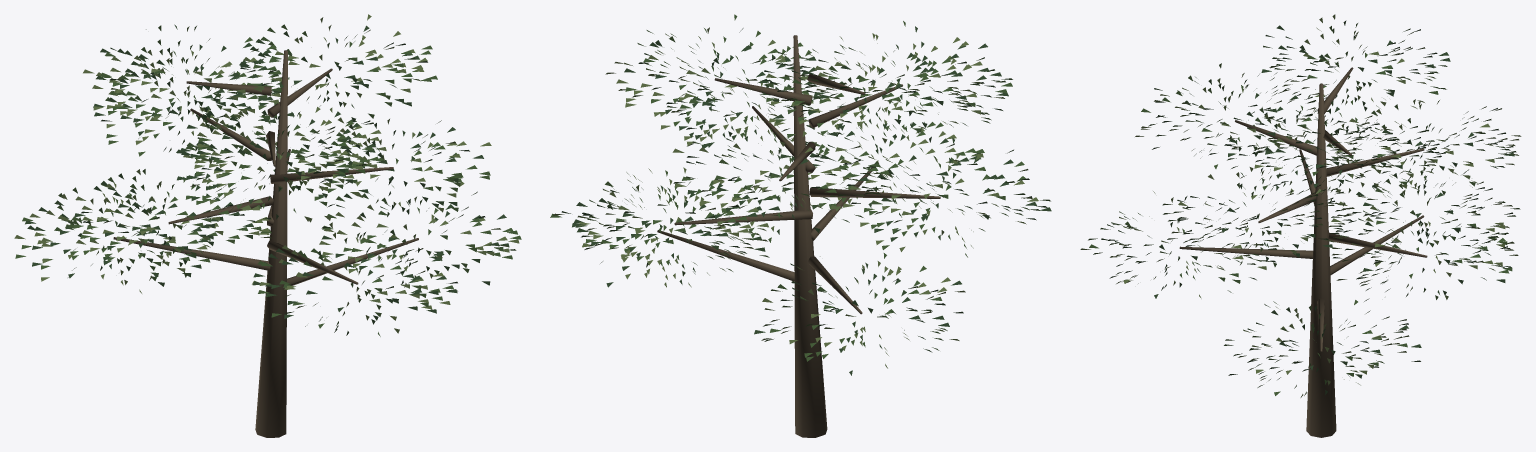
Rendered from qujingtongyou.glb.
3 views of the same model, side by side, from view 1: azimuth 30°, elevation 25°; view 2: azimuth 150°, elevation 25°; view 3: azimuth 270°, elevation 25° (orthographic). The views are drawn at different scales.
Parts seen in each view (by area): view 1: Mobile_qujingtongyou_plants; view 2: Mobile_qujingtongyou_plants; view 3: Mobile_qujingtongyou_plants.
Boxes of the visible parts, left/top/right/bottom form: Mobile_qujingtongyou_plants: left=14, top=14, right=521, bottom=437; Mobile_qujingtongyou_plants: left=550, top=14, right=1051, bottom=437; Mobile_qujingtongyou_plants: left=1080, top=14, right=1521, bottom=437.
Size of the model in its own units: 12.23 by 9.98 by 11.27.
